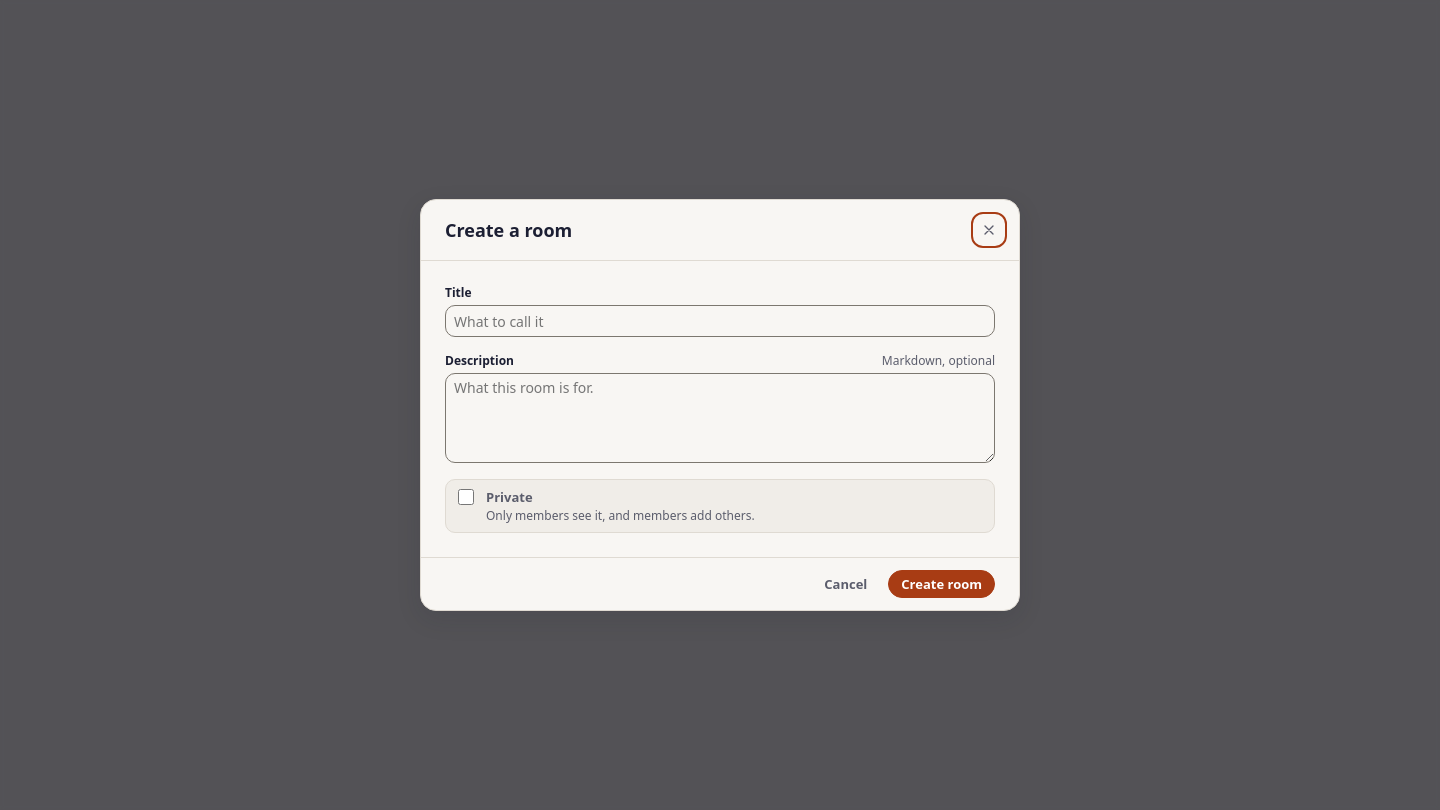
Test: NewRoomDialog › says in words that a server keeps no private rooms, and stays open
Type "Hiring" into the field with class "ap-field" showing "Title".
click(720, 321); type("Hiring")  # box [445, 305, 995, 337]
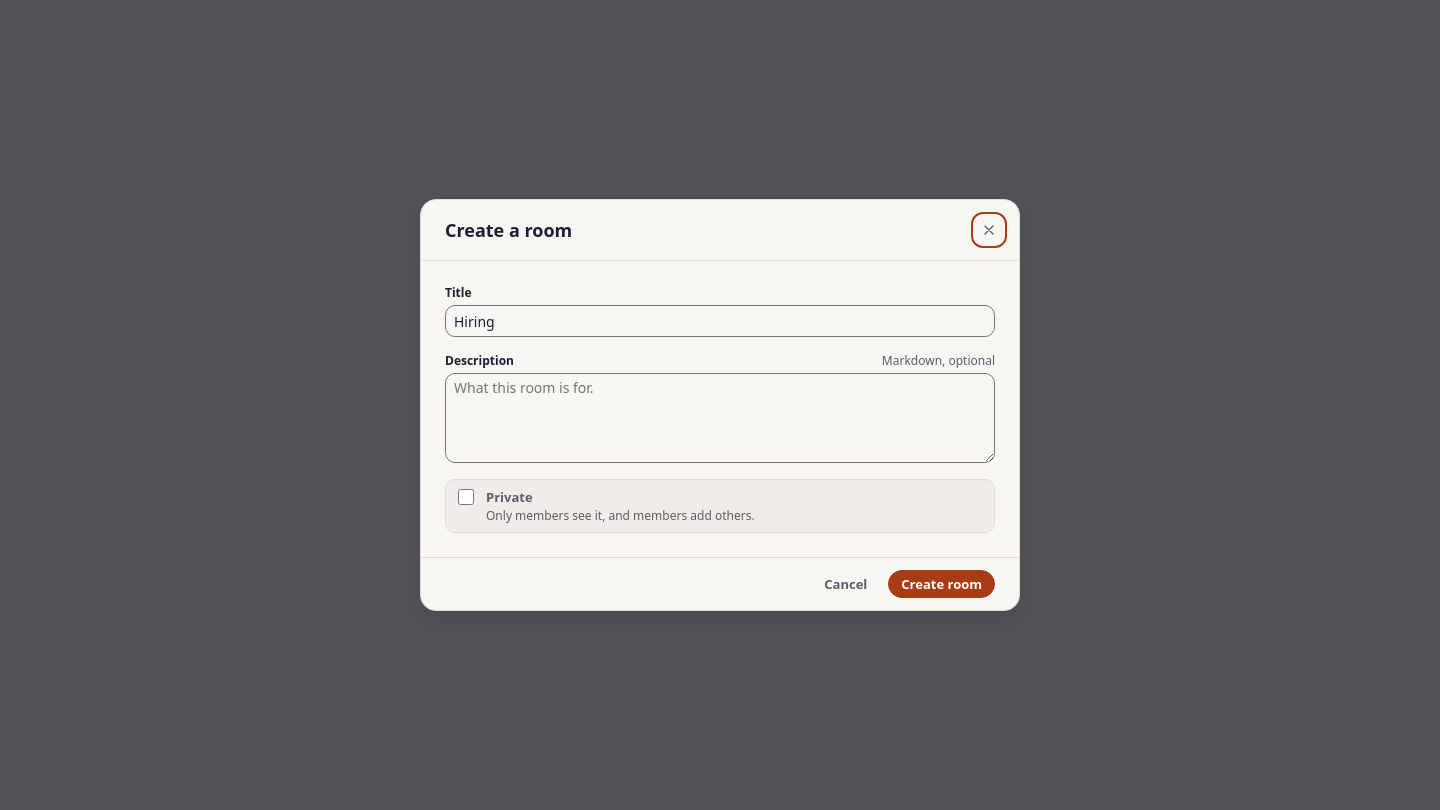
Click the checkbox labelled "Private Only members see it, and members add others.".
click(466, 497)  # box [458, 489, 474, 505]
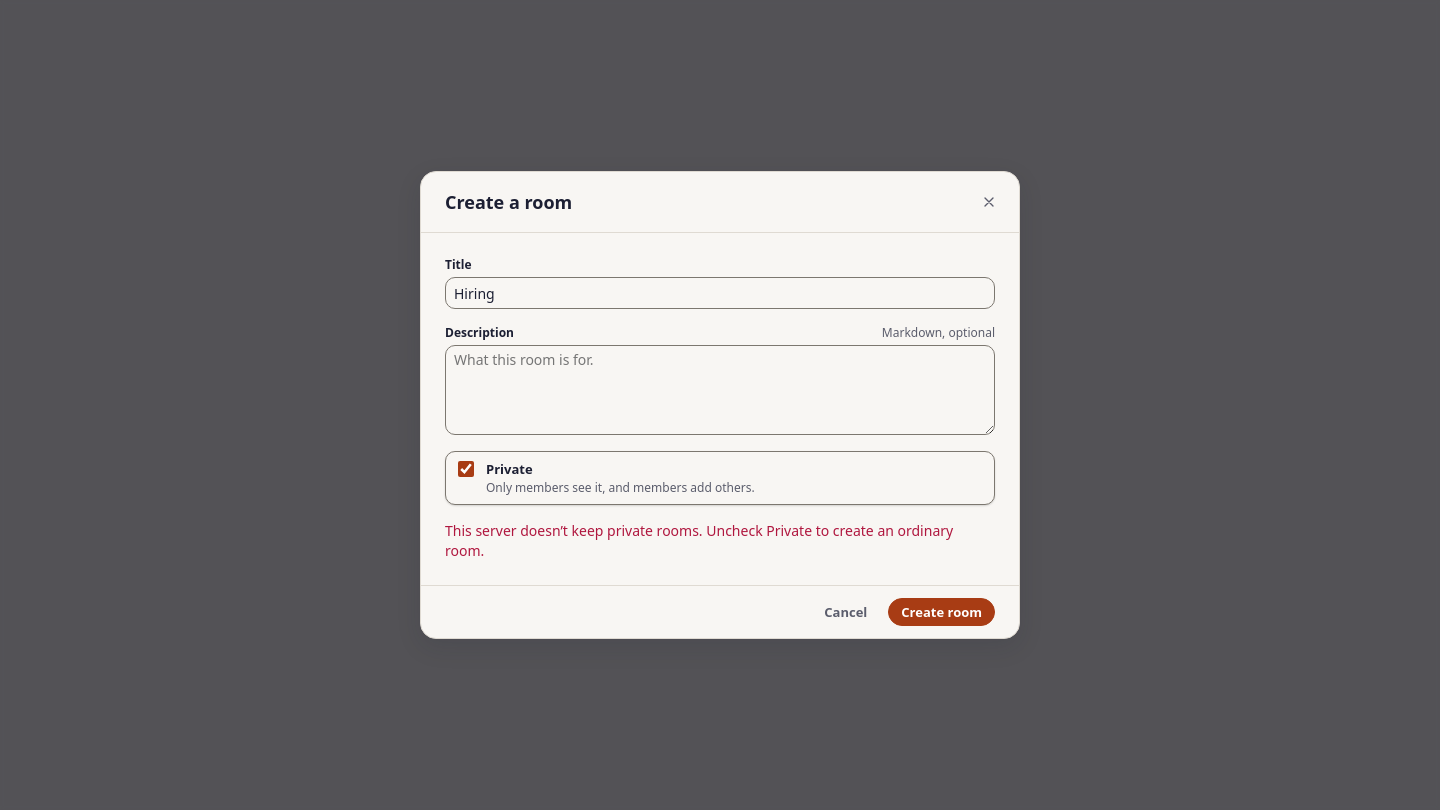
Now the message shows "doesn’t keep private rooms", box [445, 521, 953, 560]
